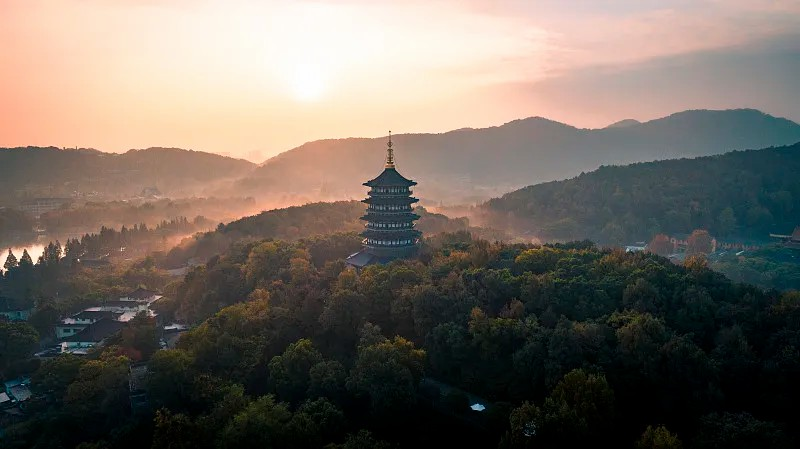Leifeng: (344, 130, 431, 281)
